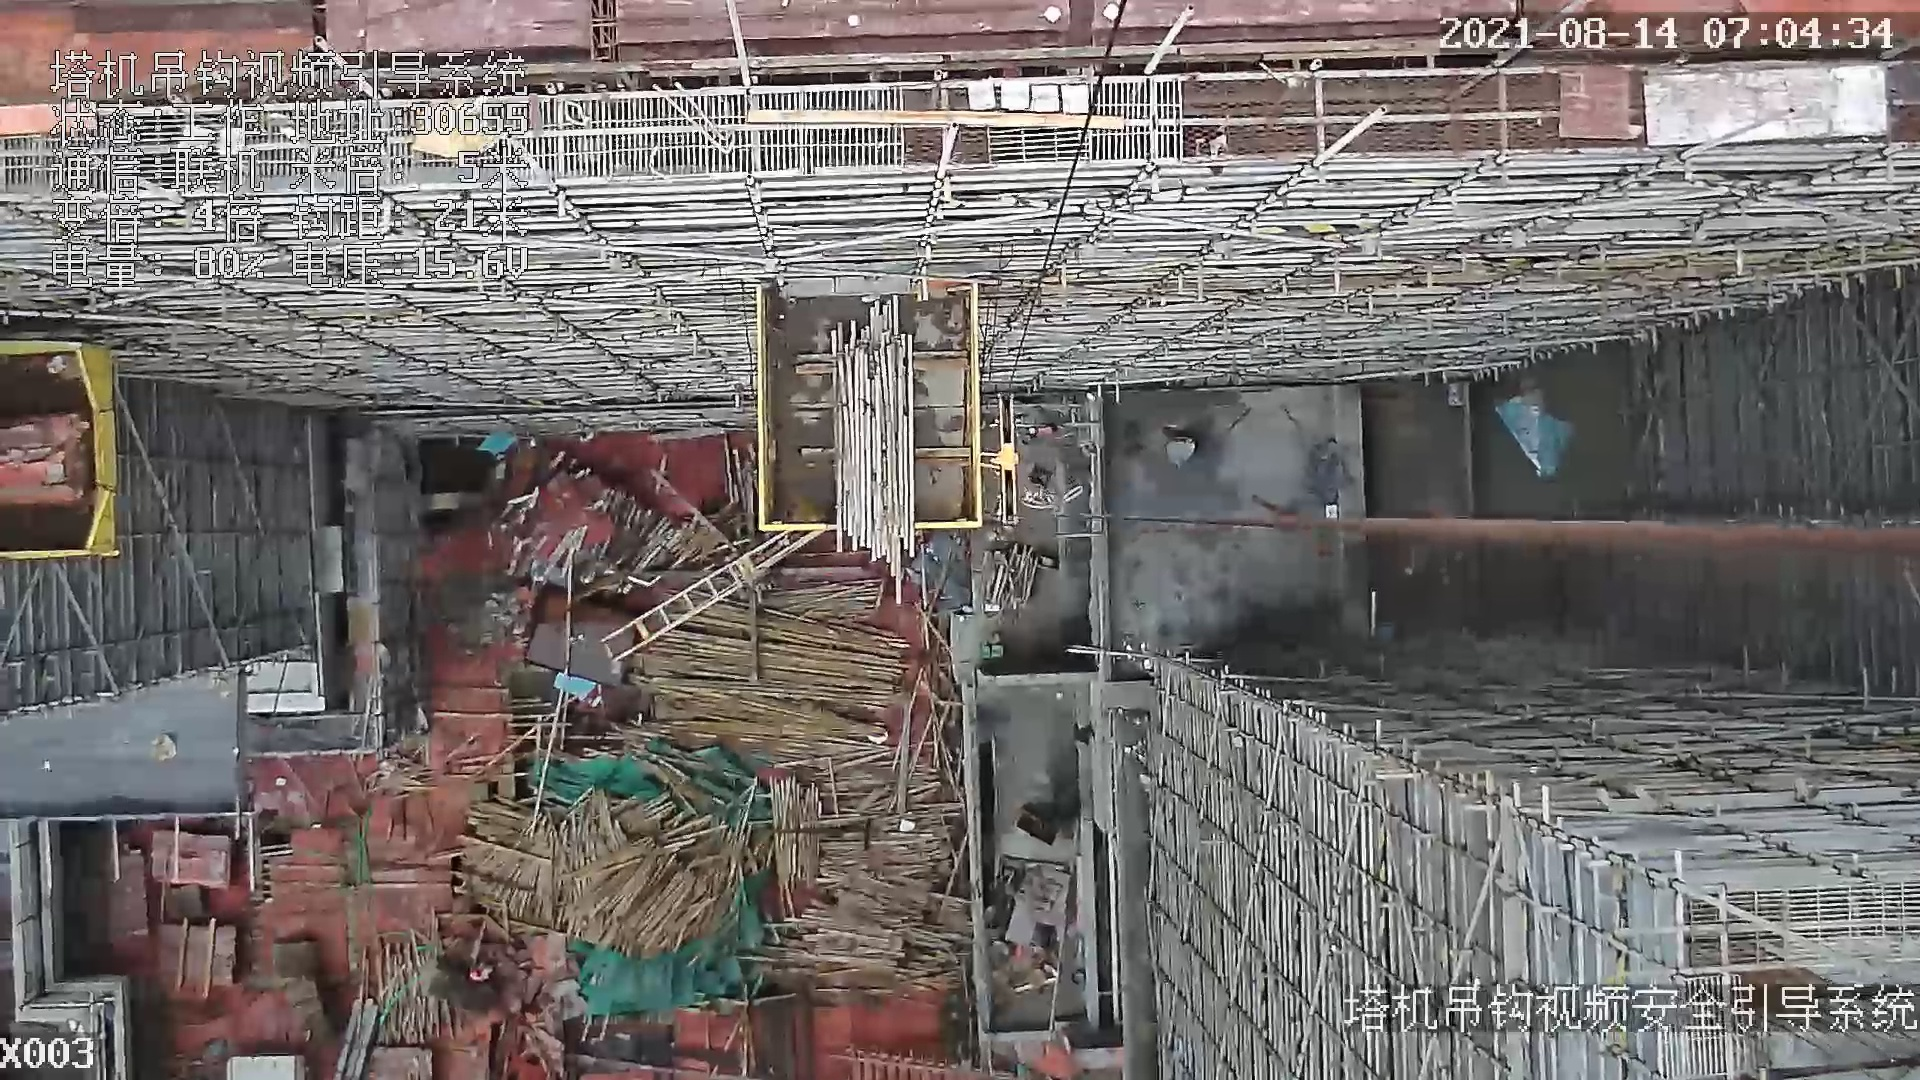hook: (978, 394, 1025, 539)
